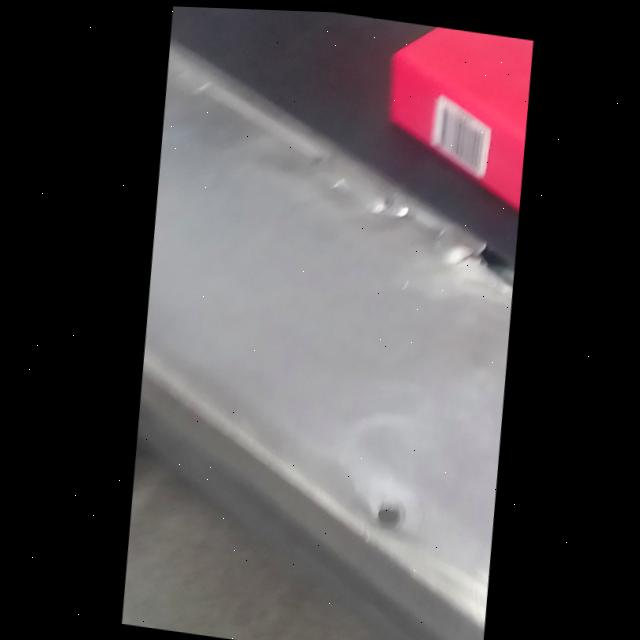redBox: (363, 15, 535, 213)
